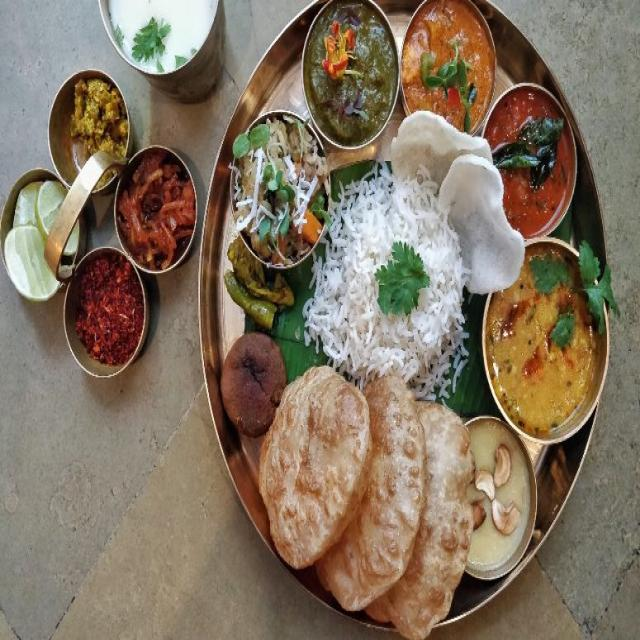non veg meals: (213, 0, 614, 640)
